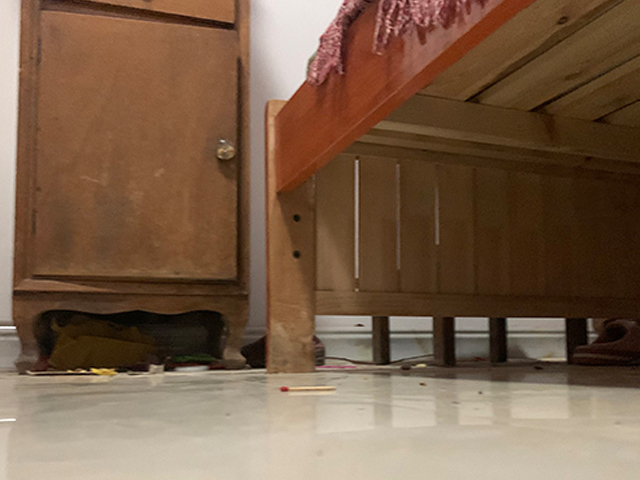bed: (263, 1, 640, 376)
cabinet: (12, 1, 253, 374)
